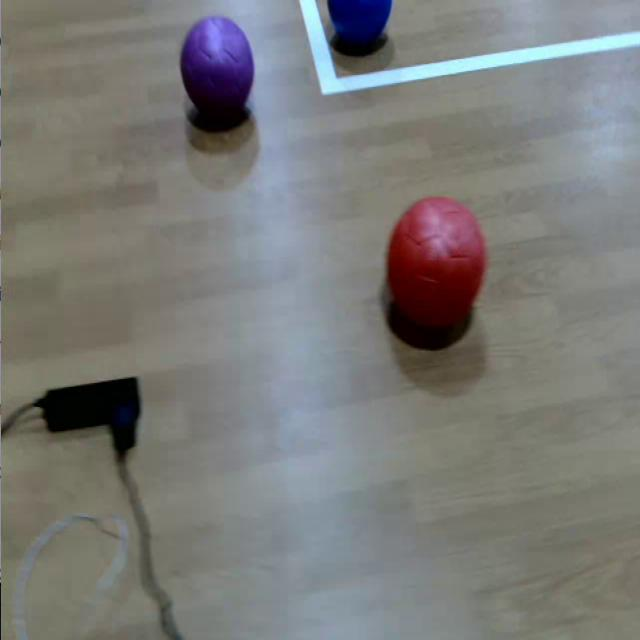blue_ball: (325, 0, 393, 46)
purple_ball: (180, 15, 256, 115)
red_ball: (386, 196, 486, 326)
